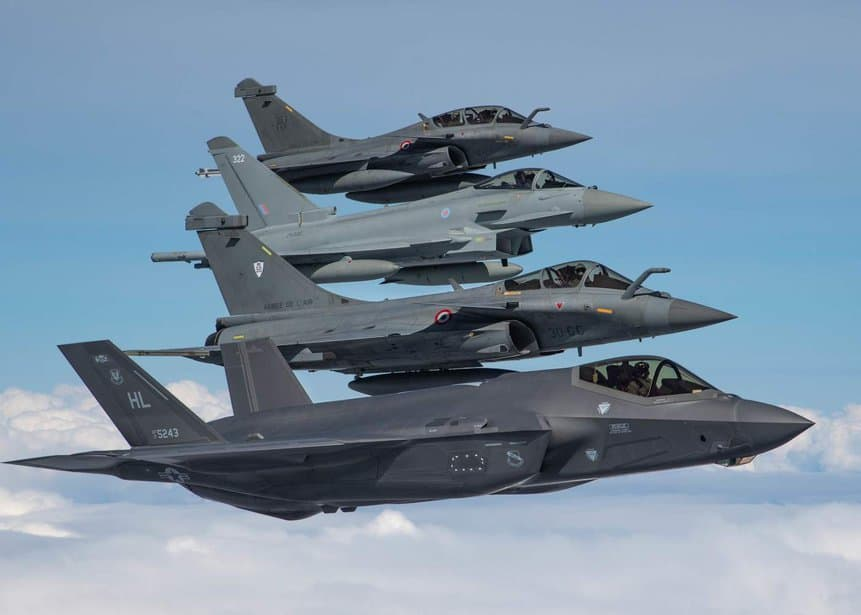F35: (10, 337, 810, 517)
Rafale: (116, 201, 737, 388), (219, 83, 588, 196)
